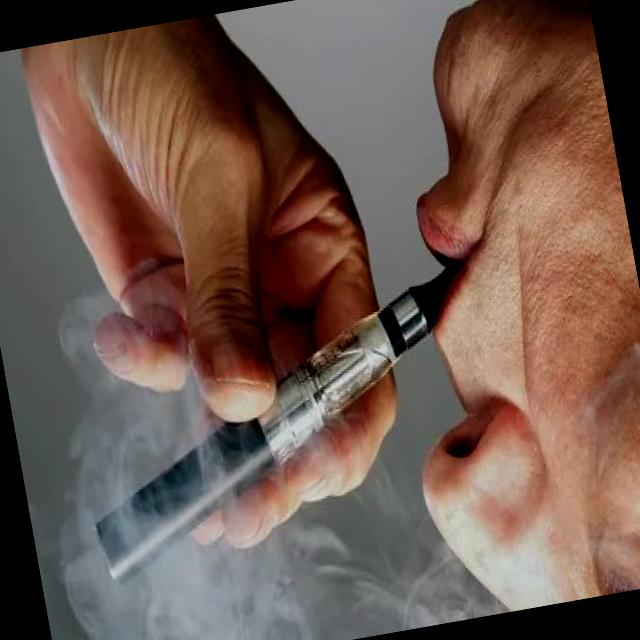cigarette: (51, 244, 502, 606)
